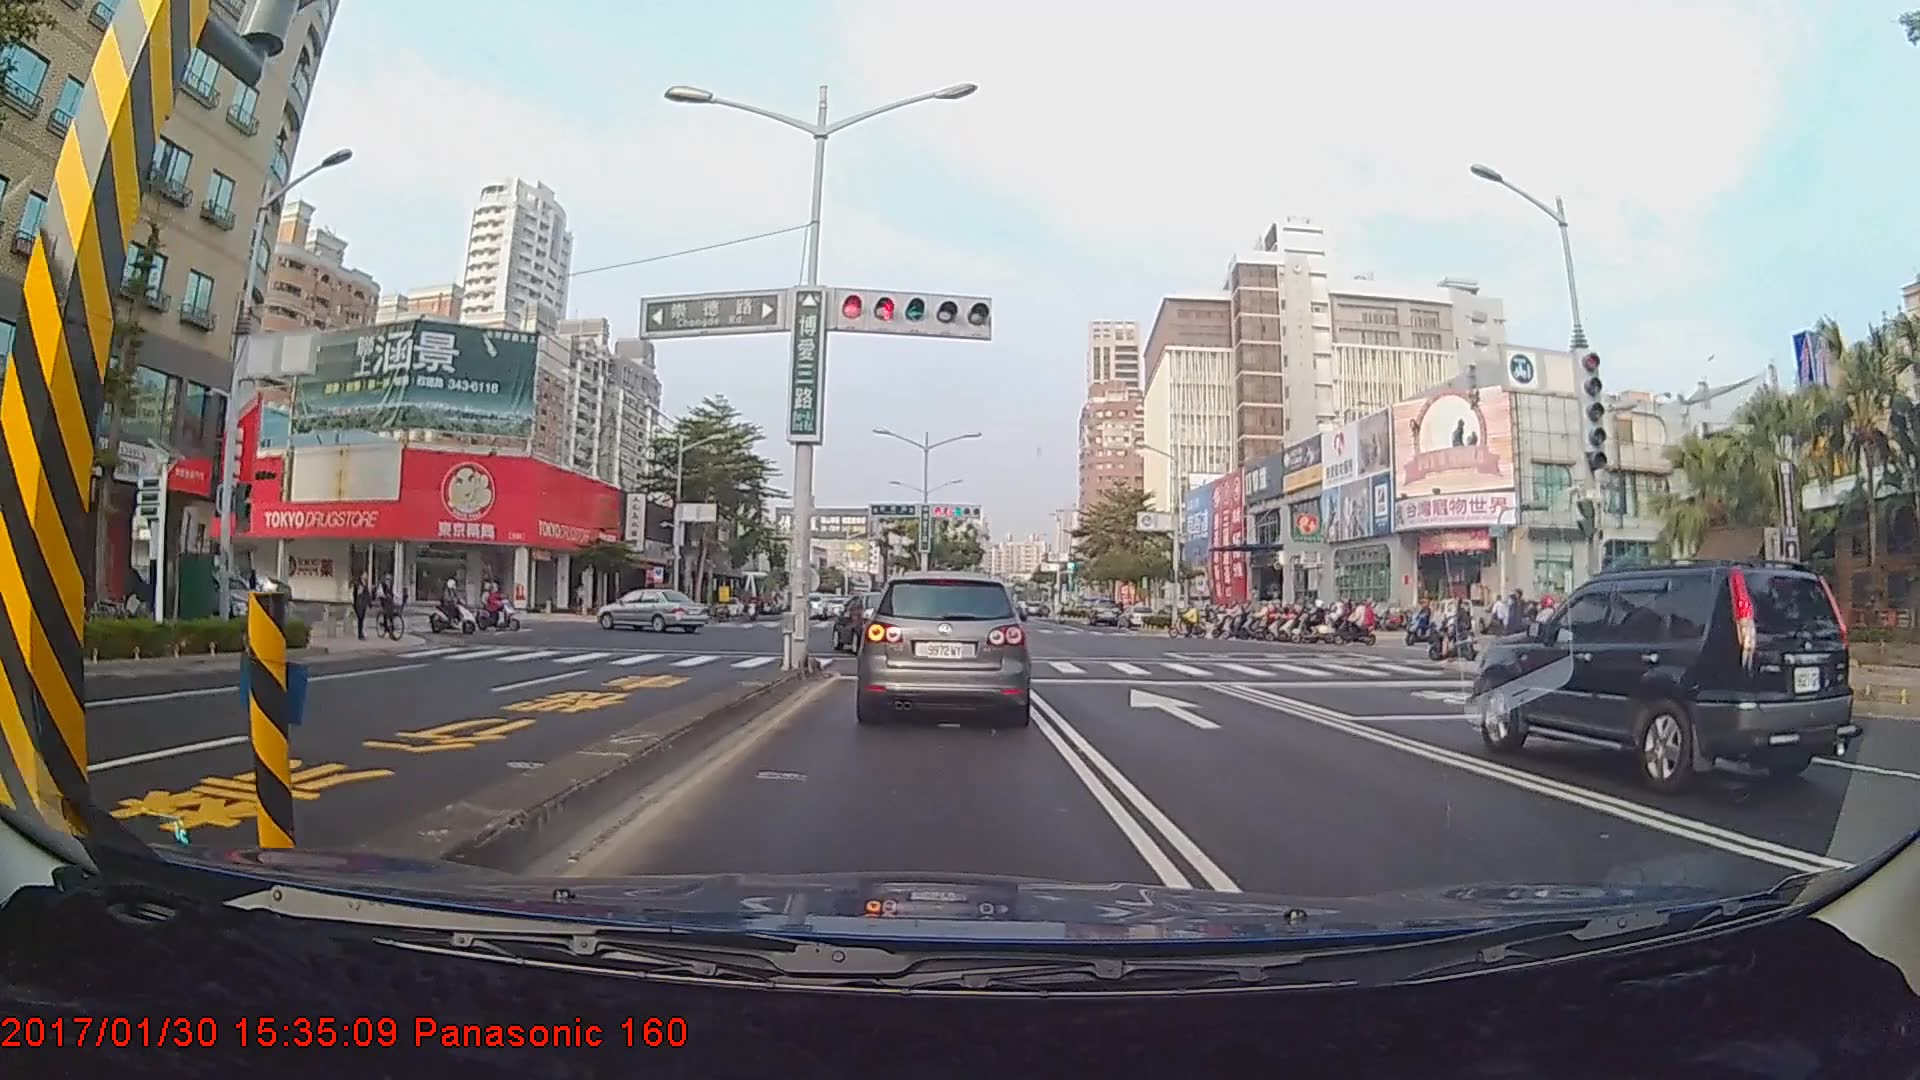pedestrian: (1499, 588, 1528, 670), (352, 565, 375, 645)
rider: (1431, 600, 1490, 663), (432, 577, 484, 638), (377, 566, 416, 639), (472, 577, 522, 631), (1337, 593, 1381, 647), (1305, 601, 1351, 644), (1173, 599, 1210, 638)
vehicle: (1465, 562, 1857, 797), (853, 570, 1032, 724), (830, 591, 925, 656), (596, 585, 708, 633), (1088, 597, 1121, 627)
